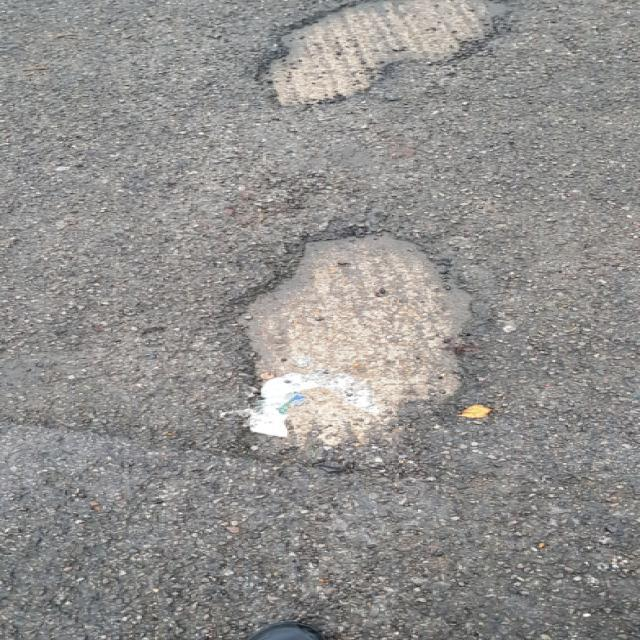pothole: (218, 225, 486, 452), (252, 0, 510, 110)
